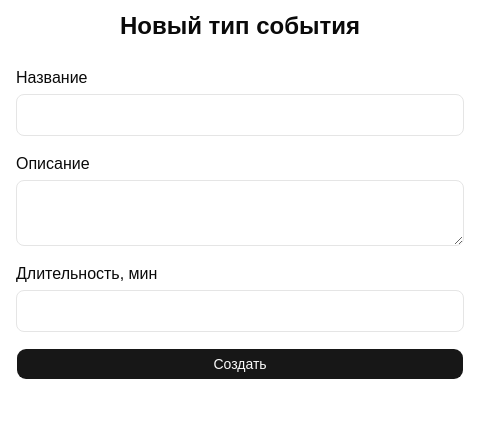
it: Страница владельца: создание типа события › показывает сообщение об ошибке валидации от сервера
The image size is (481, 445).
Type "Знакомство" into the field labelled "Название" at (240, 115), box [16,94,464,136]
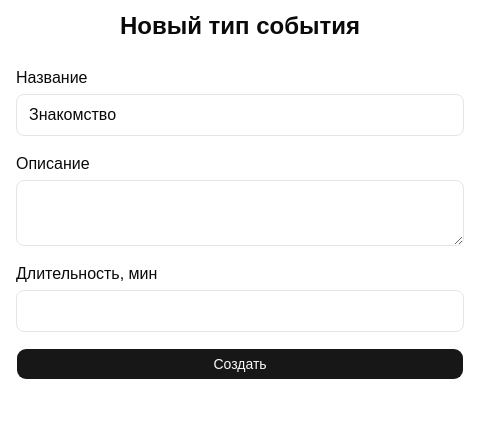
Type "Короткий звонок на 15 минут" into the text box labelled "Описание" at (240, 213), box [16,180,464,246]
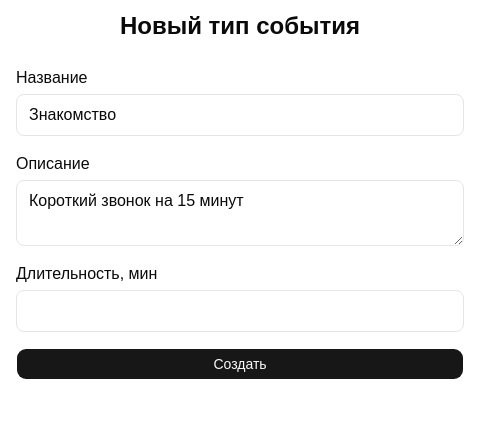
Type "15" into the number field labelled "Длительность, мин" at (240, 311), box [16,290,464,332]
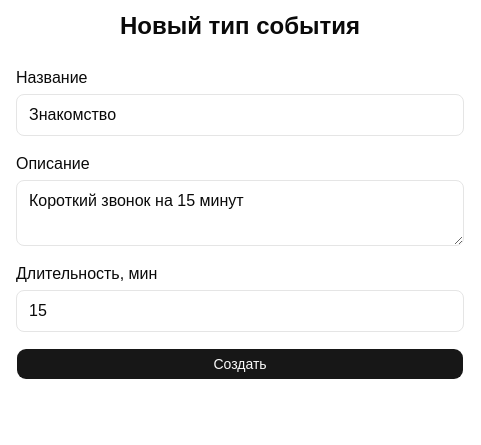
Click the button "Создать" at (240, 364), box [16,348,464,380]
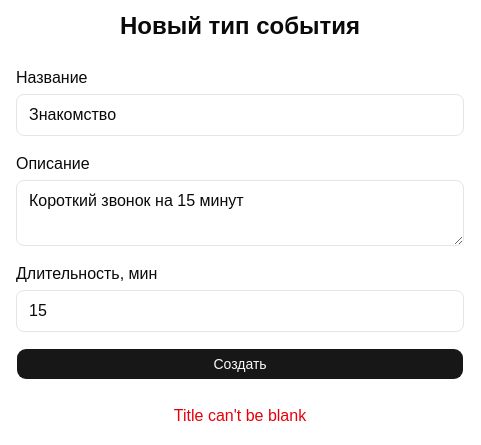
expect the text "Title can't be blank" is shown: met, box [174,404,306,428]
